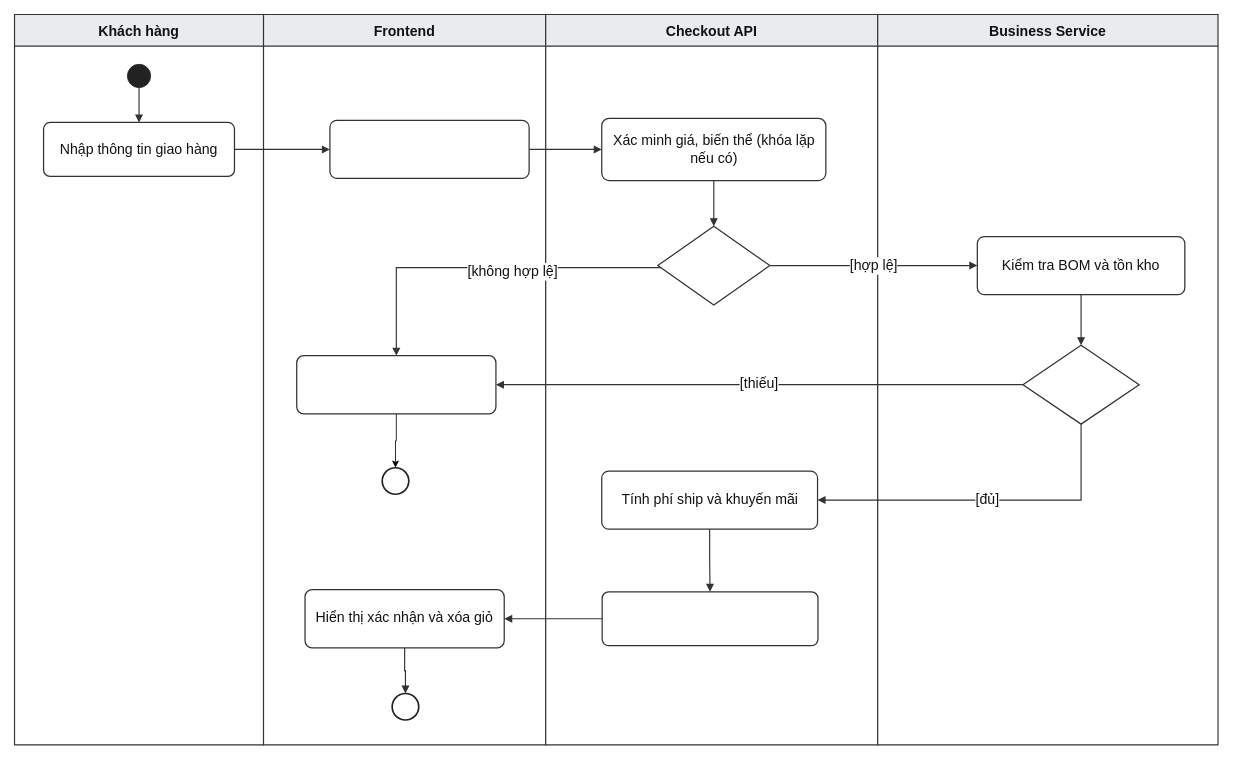
This 1233x760 diagram has some shape labels left out. Here are the shapes that lost their labels. From the top down, the centre of each, then its label:
pixel 429 149: Kiểm tra form và gửi request
pixel 713 265: Hợp lệ?
pixel 396 384: Hiển thị lỗi, không tạo đơn
pixel 1080 384: Đủ hàng?
pixel 709 618: Tạo đơn pending
